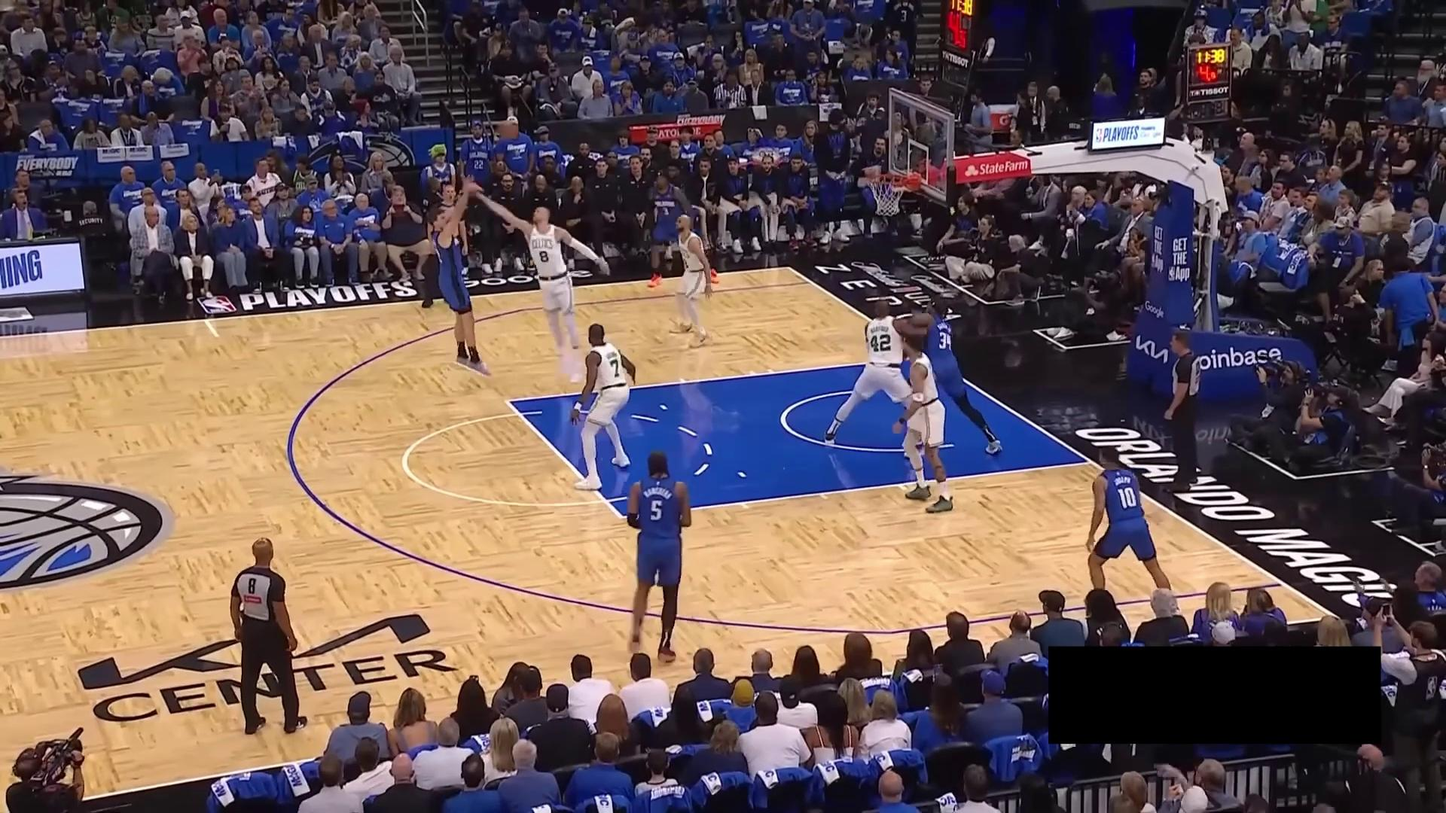ball: (497, 120, 517, 139)
number: (1117, 486, 1137, 509), (870, 333, 891, 352), (649, 499, 663, 522), (938, 330, 950, 350), (609, 358, 620, 377), (538, 249, 550, 264), (662, 206, 670, 216)
player: (906, 296, 1005, 462), (1084, 445, 1176, 619), (823, 297, 928, 445), (624, 449, 694, 664), (568, 322, 638, 492), (892, 331, 954, 514), (644, 168, 718, 291), (670, 212, 714, 349)
player-jump-shot: (422, 164, 493, 377)
player-shot-block: (467, 184, 612, 386)
referee: (230, 537, 309, 735), (1162, 328, 1203, 493), (422, 184, 469, 309)
rim: (864, 172, 908, 187)
